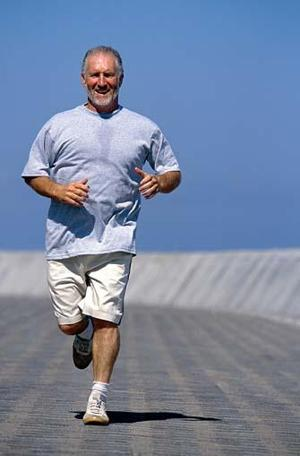person: (21, 47, 184, 424)
